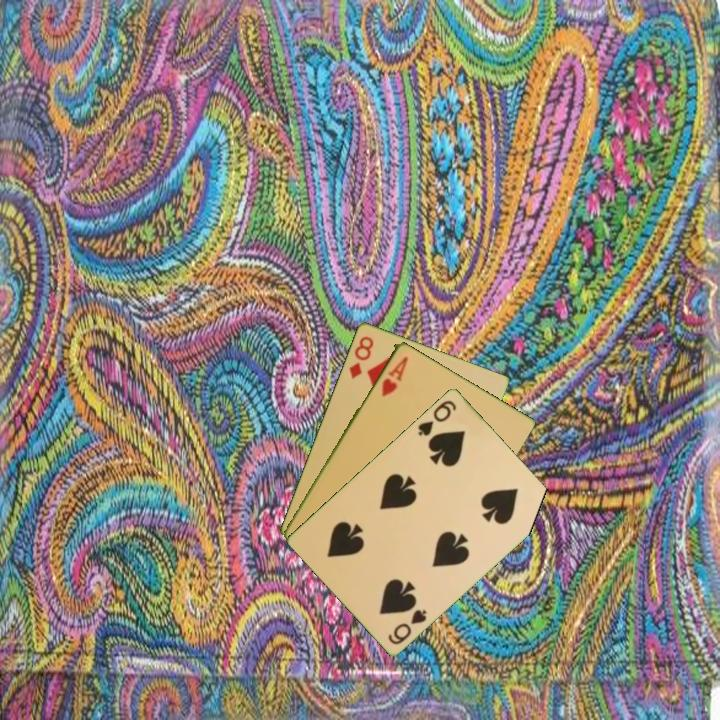6s: (414, 396, 459, 439), (384, 605, 430, 647)
8d: (345, 332, 376, 381)
Ah: (378, 352, 411, 399)
